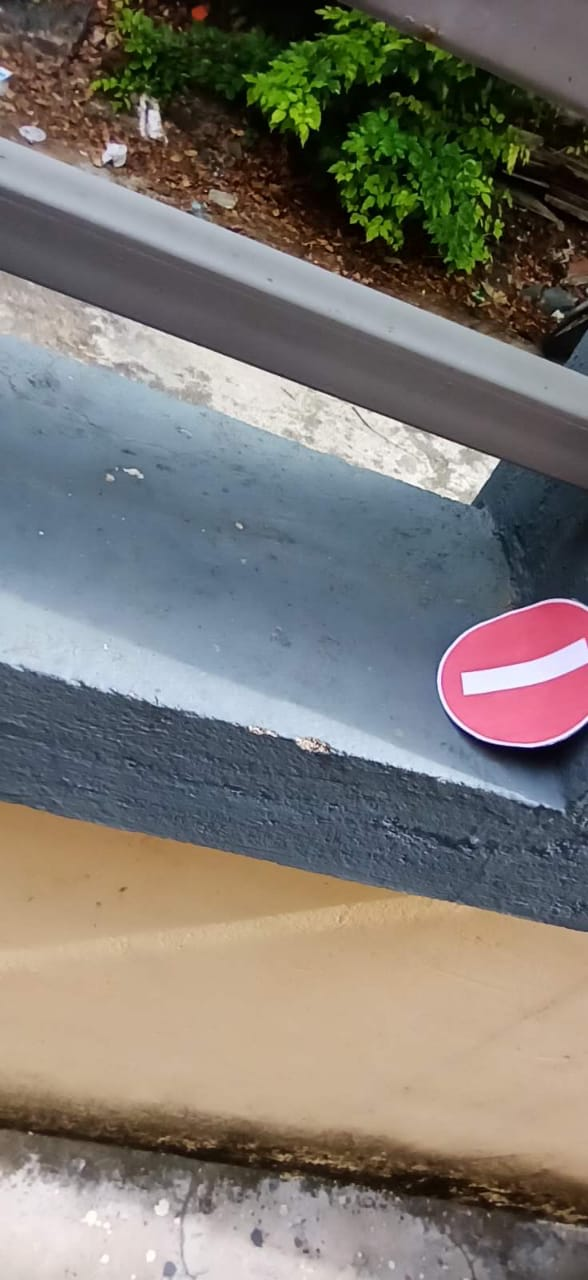NO ENTRY: (420, 523, 588, 772)
